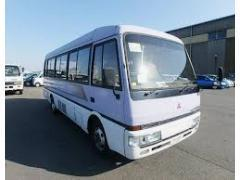bus: (45, 24, 201, 164)
